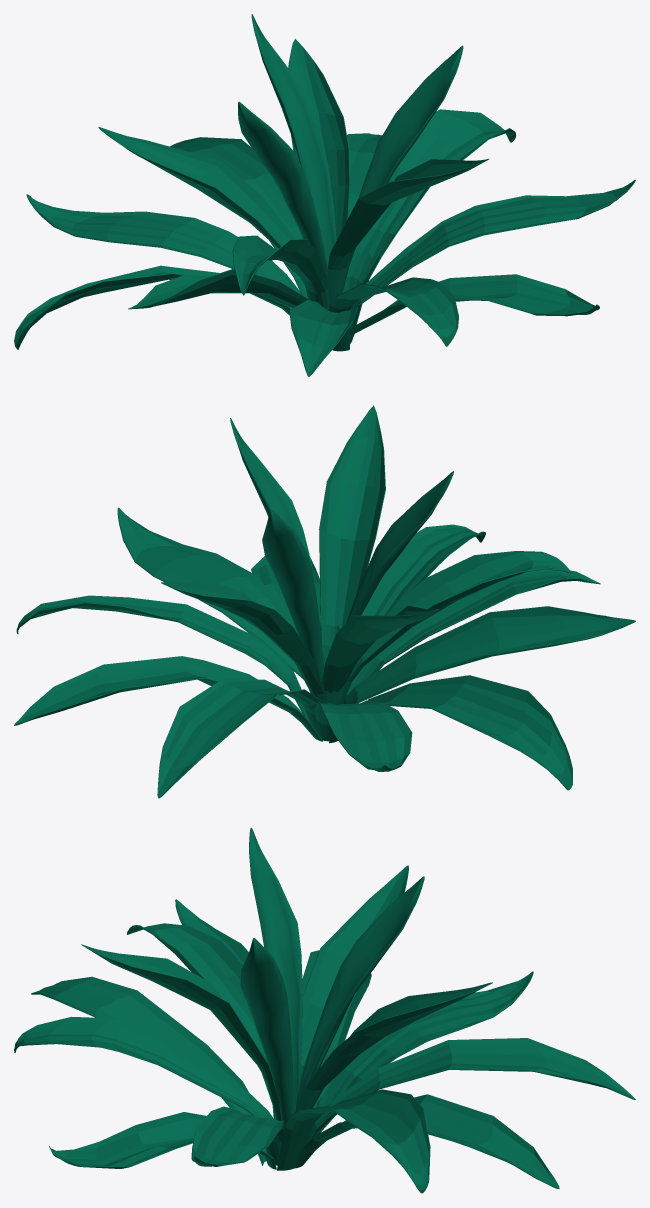
The model's file is agave azul.glb.
3 views of the same model, one above another, from view 1: azimuth 30°, elevation 25°; view 2: azimuth 150°, elevation 25°; view 3: azimuth 270°, elevation 25° (orthographic).
Visible parts, largest first — view 1: Agave; view 2: Agave; view 3: Agave.
Part boxes in pixels (left/top/right/bottom): Agave: left=14, top=14, right=635, bottom=376; Agave: left=14, top=405, right=635, bottom=798; Agave: left=14, top=827, right=635, bottom=1193.
Size of the model in its own units: 1.05 by 0.5223 by 1.04.
